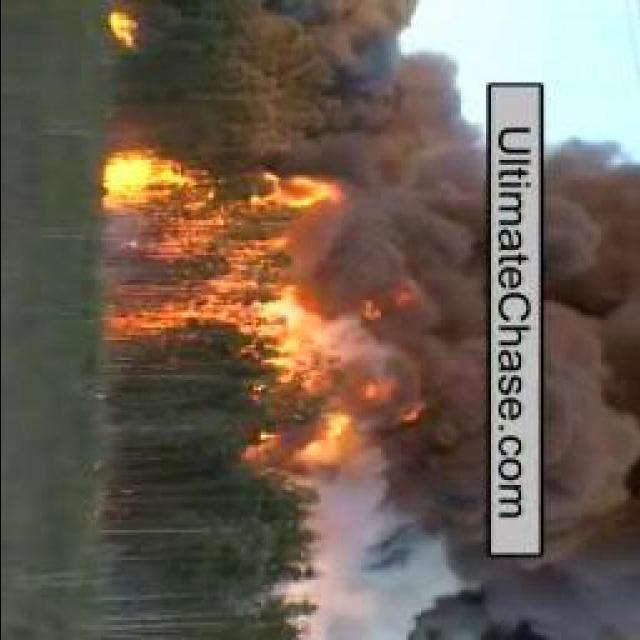Fire: (100, 150, 380, 350), (245, 376, 423, 478), (109, 11, 140, 53)
